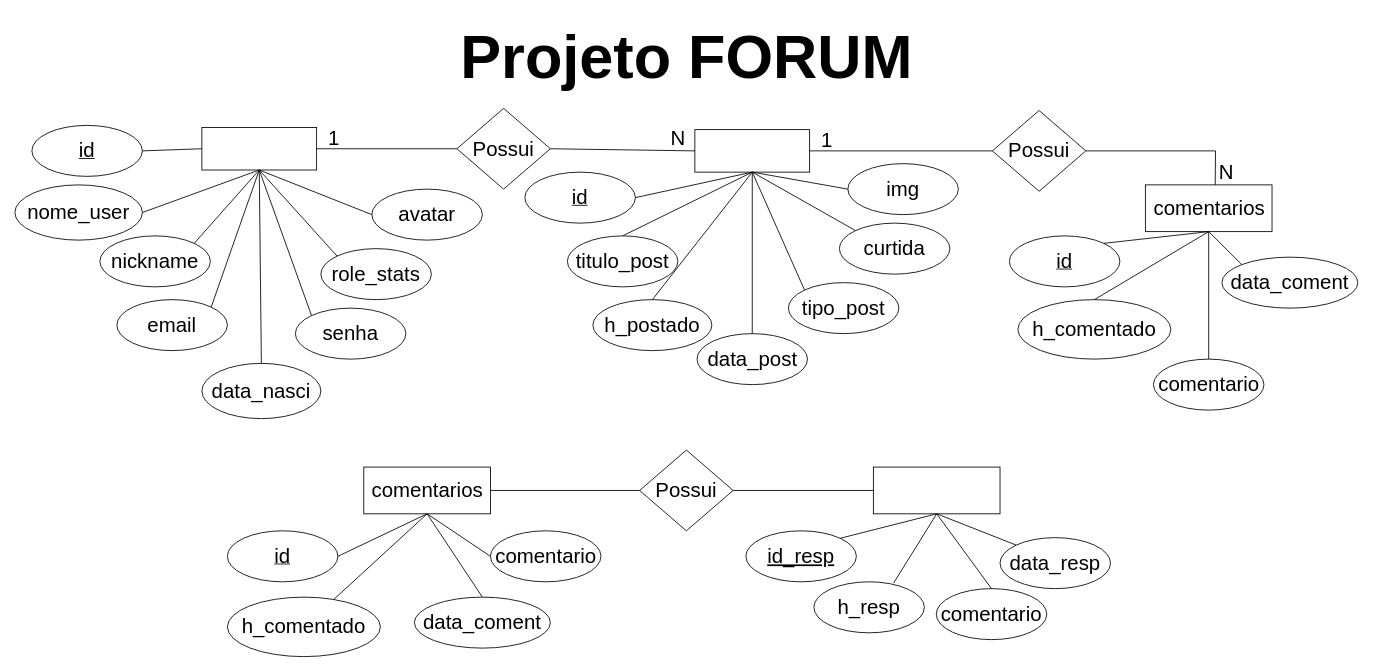
This 1373x672 diagram has some shape labels left out. Each missing label, with the centre of its shape:
"post" belongs at [752,150].
"respostas" belongs at [936,490].
"user" belongs at [259,148].
